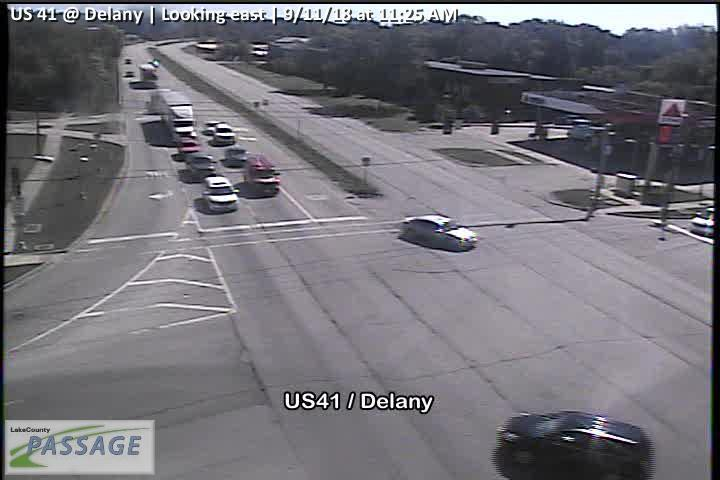SUV: (492, 411, 655, 480), (204, 177, 241, 214), (687, 205, 716, 239), (214, 123, 236, 147)
Sedan: (396, 213, 480, 253), (184, 154, 217, 179), (222, 146, 247, 168), (175, 137, 202, 156), (203, 120, 219, 137), (124, 70, 136, 78)
Truck: (159, 91, 198, 139), (243, 154, 281, 198), (566, 124, 602, 145), (138, 61, 161, 85)
